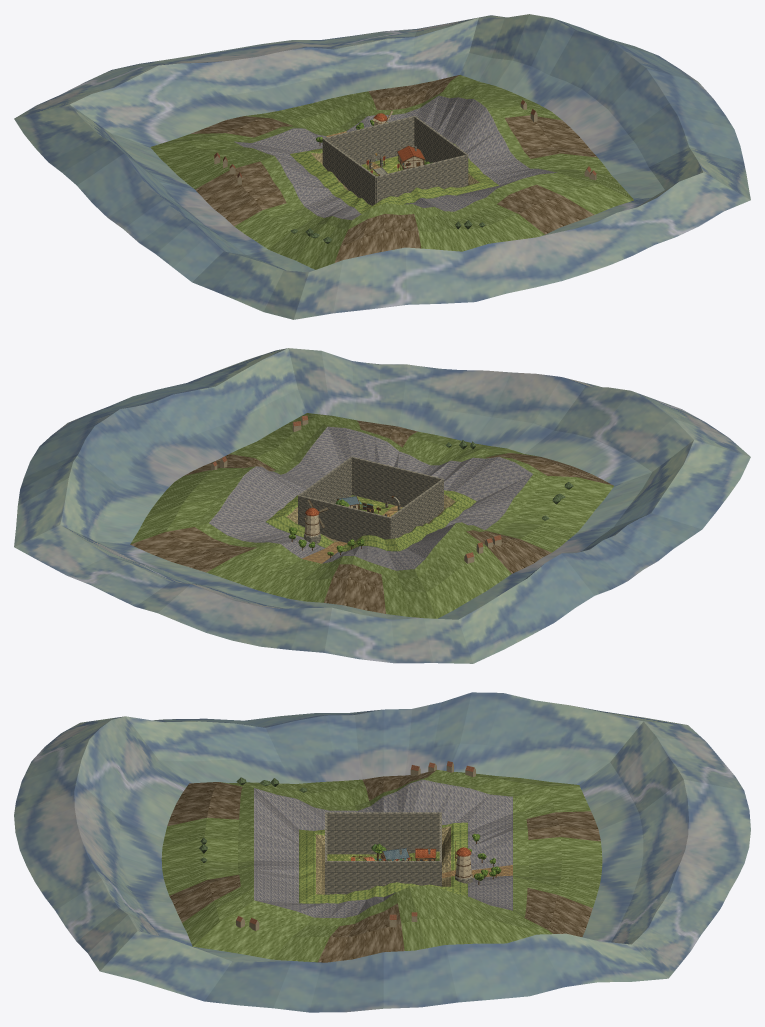
The model's file is Bellmarket.fbx.
3 renders of one model, top to bottom at view 1: azimuth 30°, elevation 25°; view 2: azimuth 150°, elevation 25°; view 3: azimuth 270°, elevation 25°, orthographic. The views are drawn at different scales.
Visible parts, largest first — view 1: Surroundings, Rim, C_Solids, Set; view 2: Surroundings, Rim, C_Solids, Set; view 3: Surroundings, Rim, C_Solids, Set.
Boxes of the visible parts, bbox=[...] form: Surroundings: bbox=[14, 14, 750, 319]; Rim: bbox=[234, 95, 557, 220]; C_Solids: bbox=[322, 116, 468, 205]; Set: bbox=[316, 113, 432, 175]; Surroundings: bbox=[14, 348, 750, 663]; Rim: bbox=[209, 426, 532, 570]; C_Solids: bbox=[298, 456, 443, 542]; Set: bbox=[288, 494, 400, 558]; Surroundings: bbox=[14, 692, 750, 1012]; Rim: bbox=[254, 779, 512, 917]; C_Solids: bbox=[325, 812, 441, 894]; Set: bbox=[351, 833, 501, 884].
Bounding box in the file's own units: 25746 × 3016 × 26178.
